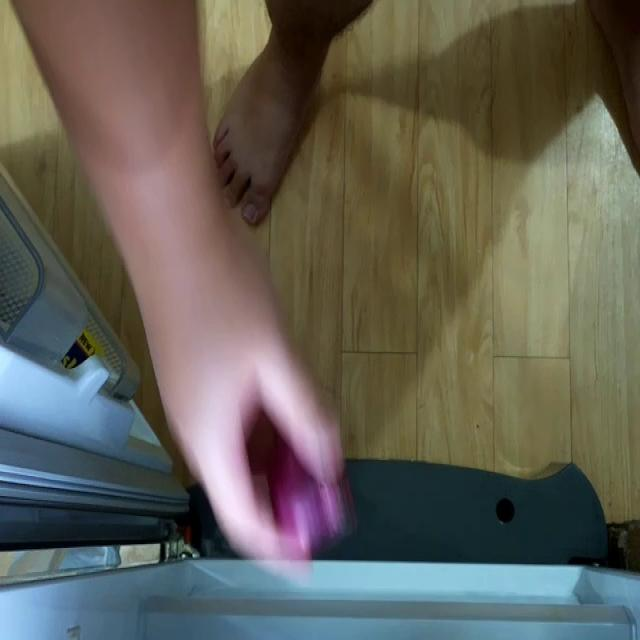onion: (272, 470, 346, 540)
